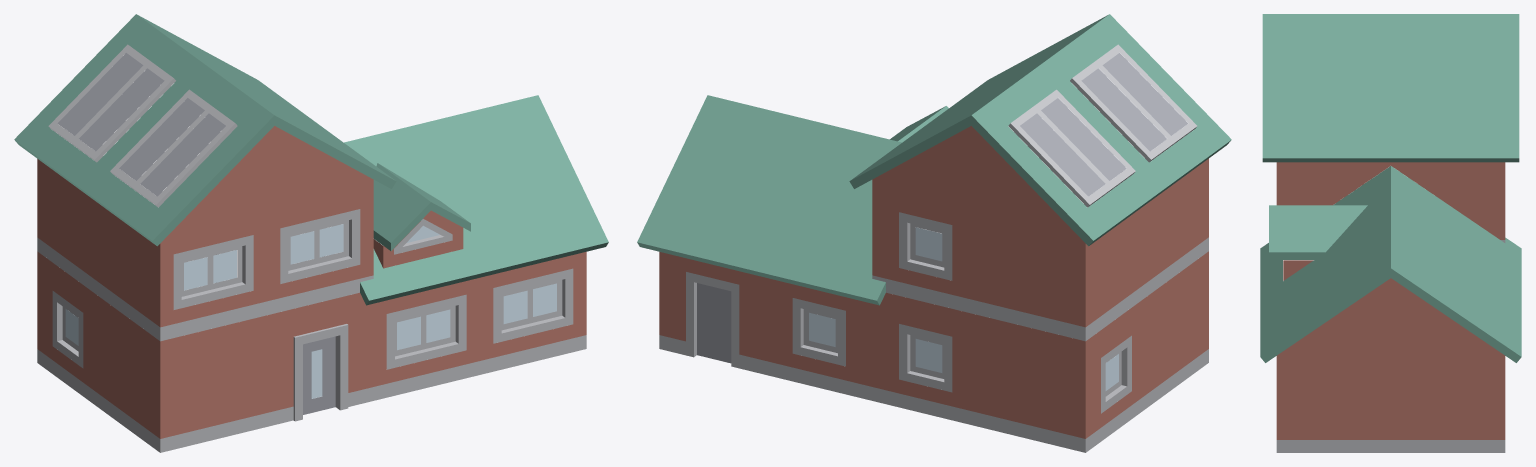
File: house-3.gltf
The picture shows the model from 3 angles, left to right: view 1: azimuth 30°, elevation 25°; view 2: azimuth 150°, elevation 25°; view 3: azimuth 270°, elevation 25°; orthographic projection. The views are drawn at different scales.
Visible parts, largest first — view 1: house_type03; view 2: house_type03; view 3: house_type03.
Boxes of the visible parts, <box> form: house_type03: <box>14,14,608,452</box>; house_type03: <box>637,14,1231,452</box>; house_type03: <box>1260,14,1521,452</box>.
Size of the model in its own units: 1.71 by 1.14 by 0.9162.
